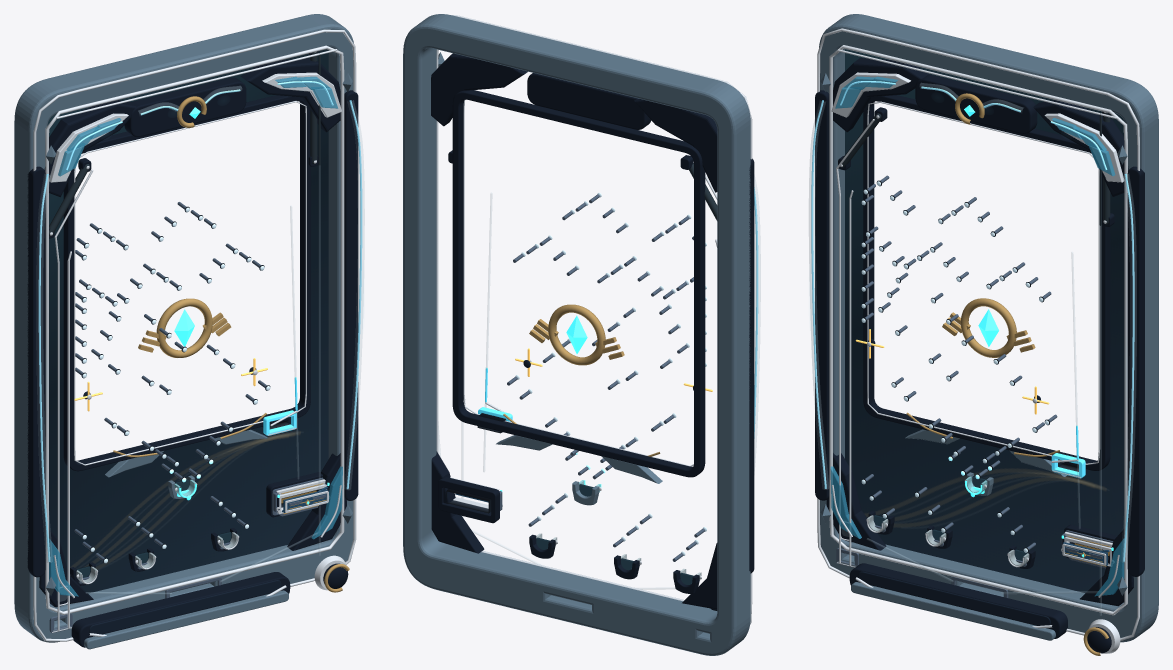
Rendered from course-1.glb.
3 views of the same model, side by side, from view 1: azimuth 30°, elevation 25°; view 2: azimuth 150°, elevation 25°; view 3: azimuth 330°, elevation 25° (orthographic). The views are drawn at different scales.
Parts seen in each view (by area): view 1: part-31, part-4, part-42, part-7, part-6, part-11, part-48, part-12, part-8, part-57, part-58, part-59 (+19 smaller); view 2: part-4, part-42, part-48, part-23, part-15, part-7, part-28, part-6, part-8, attacker-housing, part-64, part-20 (+4 smaller); view 3: part-31, part-4, part-42, part-11, part-6, part-7, part-48, part-8, part-12, part-57, part-58, part-59 (+17 smaller).
Part boxes in pixels (x1,y1,x2,y2): part-31: (47, 49, 328, 593); part-4: (14, 14, 353, 642); part-42: (63, 95, 310, 471); part-7: (27, 166, 45, 577); part-6: (45, 45, 344, 614); part-11: (344, 90, 358, 500); part-48: (124, 77, 246, 136); part-12: (344, 100, 364, 489); part-8: (36, 174, 52, 562); part-57: (71, 572, 290, 647); part-58: (84, 590, 288, 649); part-59: (89, 580, 281, 636); part-4: (403, 14, 750, 655); part-42: (452, 90, 705, 477); part-48: (527, 73, 651, 129); part-23: (431, 54, 527, 126); part-15: (634, 99, 717, 192); part-7: (749, 158, 754, 573); part-28: (431, 451, 484, 553); part-6: (436, 49, 684, 601); part-8: (754, 176, 760, 470); attacker-housing: (438, 477, 499, 523); part-64: (548, 304, 605, 365); part-20: (682, 543, 717, 609); part-31: (845, 49, 1124, 602); part-4: (819, 14, 1158, 642); part-42: (863, 95, 1110, 470); part-11: (1127, 166, 1144, 576); part-6: (829, 45, 1127, 615); part-7: (815, 90, 829, 500); part-48: (915, 74, 1037, 134); part-8: (809, 100, 828, 489); part-12: (1121, 174, 1136, 562); part-57: (849, 563, 1067, 638); part-58: (851, 582, 1055, 640); part-59: (858, 571, 1050, 625).
Bounding box in the file's own units: 464 × 738 × 75.42.
Materials: 76 (8 with a texture image).
